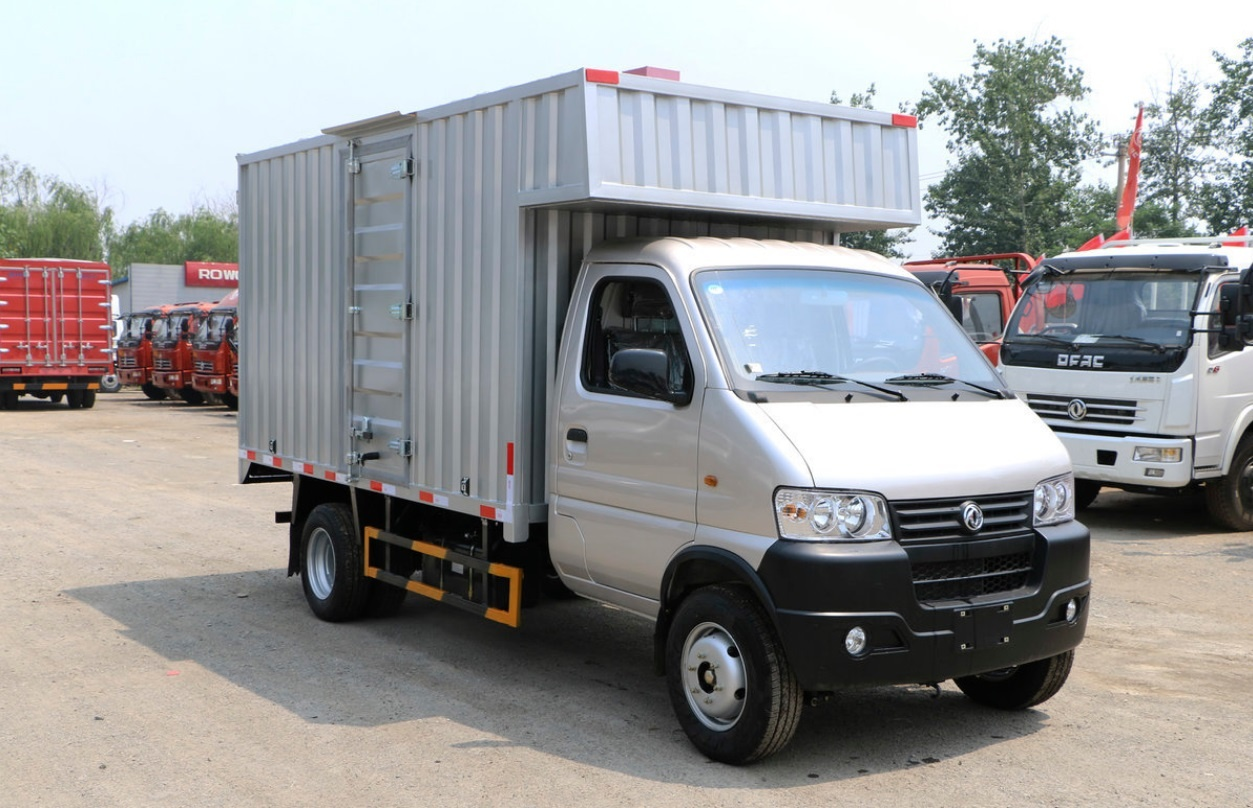truck: (224, 89, 1095, 763)
